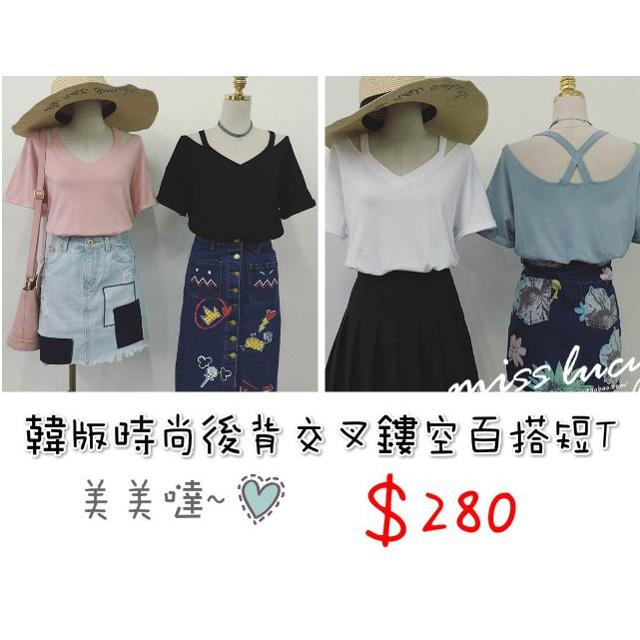Skirts: (325, 268, 481, 391), (504, 256, 624, 391), (177, 238, 279, 390), (39, 229, 144, 364)
Tops: (318, 128, 497, 274), (482, 133, 640, 265), (160, 128, 318, 242), (11, 122, 156, 233)
